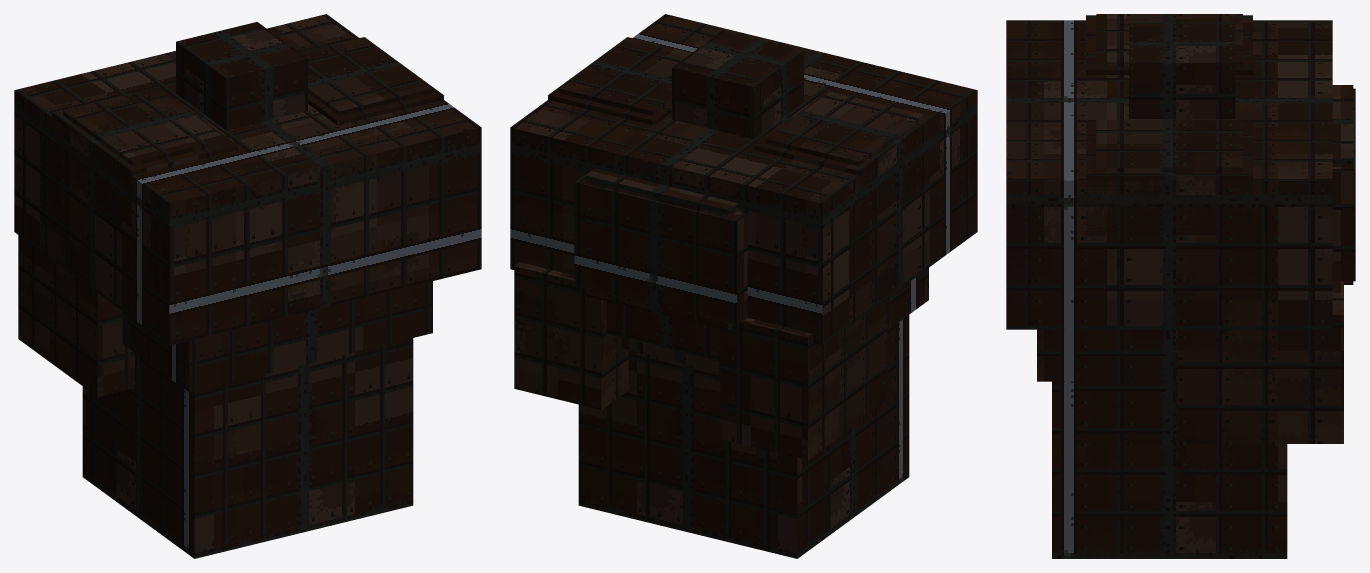
The model's file is enemy_role_brute.glb.
3 views of the same model, side by side, from view 1: azimuth 30°, elevation 25°; view 2: azimuth 150°, elevation 25°; view 3: azimuth 270°, elevation 25° (orthographic). The views are drawn at different scales.
Parts seen in each view (by area): view 1: enemy_role_brute; view 2: enemy_role_brute; view 3: enemy_role_brute.
Part boxes in pixels (bbox=[...]): enemy_role_brute: bbox=[14, 14, 481, 558]; enemy_role_brute: bbox=[510, 14, 977, 558]; enemy_role_brute: bbox=[1006, 14, 1355, 558].
Size of the model in its own units: 1.8 by 2.41 by 1.66.
3 materials, 3 textured.
